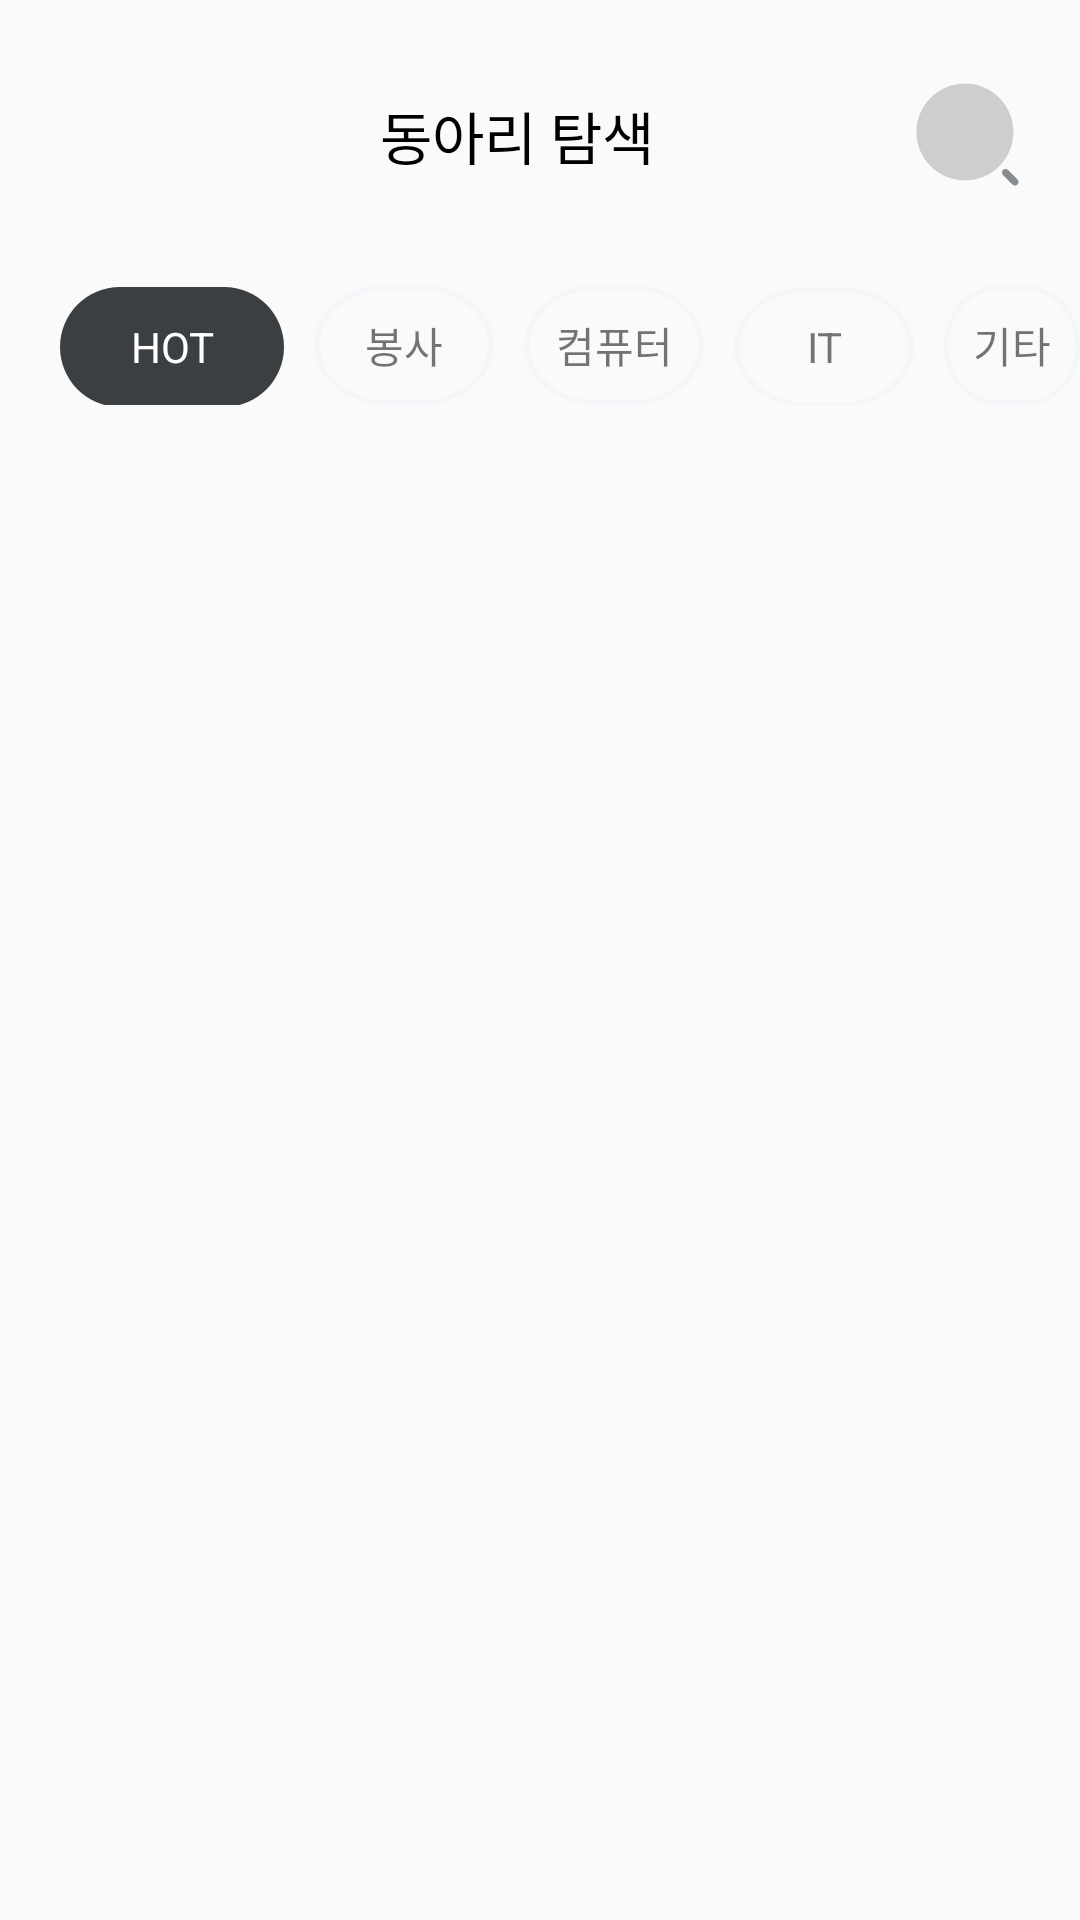

Screen size 1080px×1920px. Icon name, then its center in pixels as (x=x, y=y):
club search drawing: (x=967, y=135)
